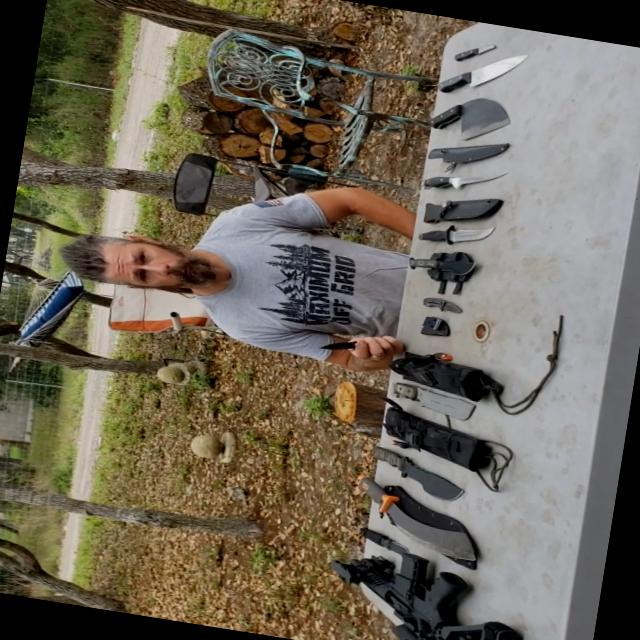knife: (333, 474, 489, 572), (354, 435, 470, 513), (433, 40, 538, 110), (412, 148, 509, 212), (427, 86, 515, 154), (378, 376, 492, 423), (398, 240, 479, 287), (411, 210, 496, 254), (346, 520, 424, 562), (311, 331, 376, 362), (410, 291, 480, 319), (452, 34, 502, 68)
long weapon: (320, 542, 551, 639)
